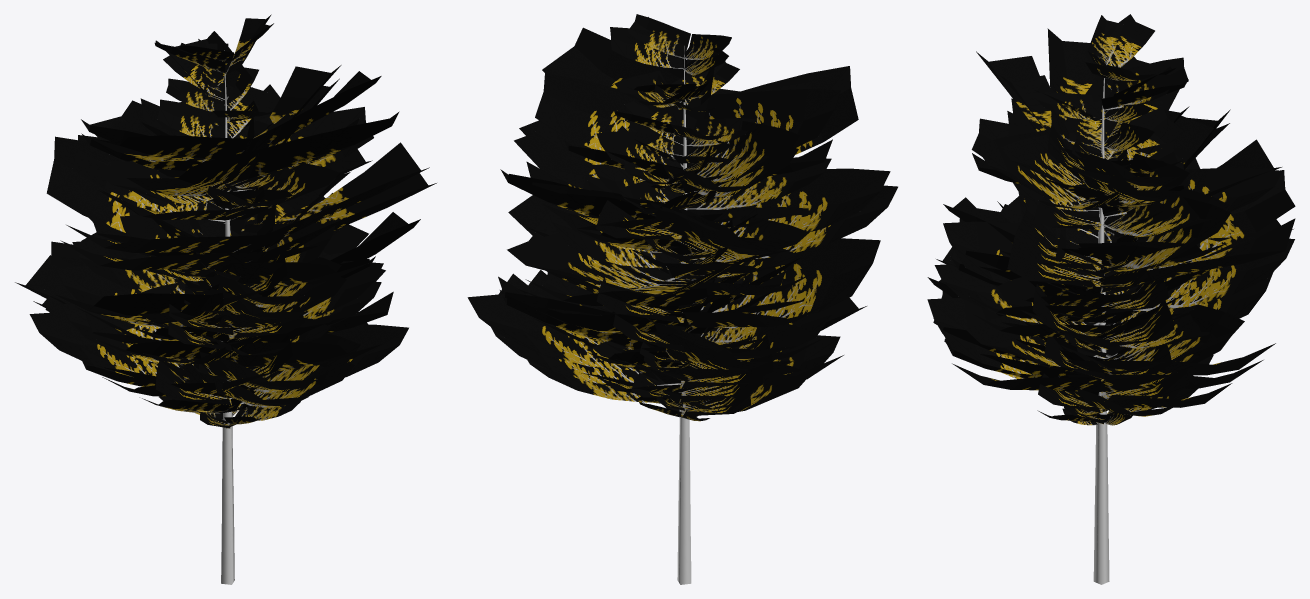
The model's file is aspen3 1.fbx.
The picture shows the model from 3 angles, left to right: view 1: azimuth 30°, elevation 25°; view 2: azimuth 150°, elevation 25°; view 3: azimuth 270°, elevation 25°; orthographic projection. The views are drawn at different scales.
Parts seen in each view (by area): view 1: AspenLeaves, Aspen.003; view 2: AspenLeaves, Aspen.003; view 3: AspenLeaves, Aspen.003.
Part boxes in pixels (left/top/right/bottom): AspenLeaves: left=15, top=14, right=436, bottom=428; Aspen.003: left=221, top=50, right=234, bottom=584; AspenLeaves: left=467, top=14, right=897, bottom=421; Aspen.003: left=677, top=46, right=691, bottom=584; AspenLeaves: left=927, top=14, right=1295, bottom=425; Aspen.003: left=1093, top=55, right=1109, bottom=584.
Bounding box in the file's own units: 1197 × 1803 × 1106.
Materials: 1 (1 with a texture image).
